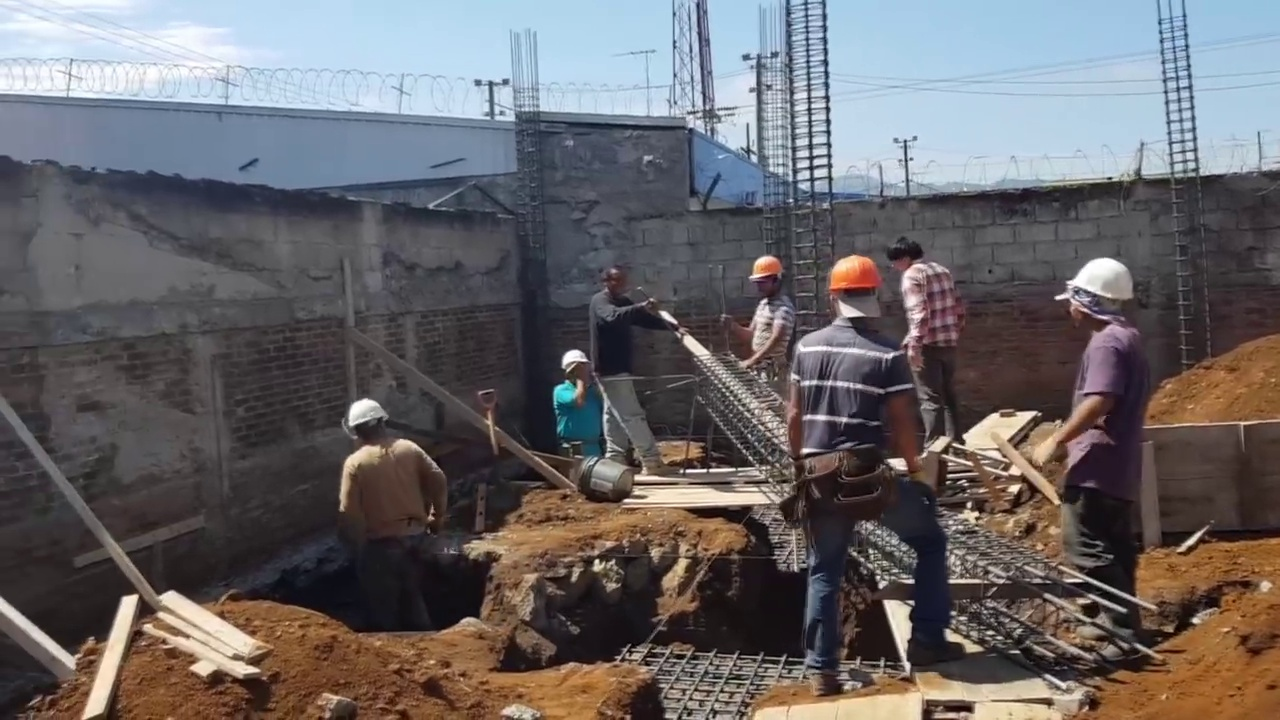helmet: (1054, 261, 1149, 312), (825, 257, 886, 298), (341, 403, 387, 442), (746, 257, 782, 286), (561, 349, 588, 372)
helmet-off: (891, 235, 927, 275), (599, 268, 627, 295)
helmet-on: (1061, 258, 1148, 340), (828, 257, 886, 326), (342, 398, 392, 453), (746, 257, 782, 302), (561, 349, 589, 387)
person: (790, 247, 947, 705), (1057, 243, 1159, 661), (336, 394, 445, 629), (893, 235, 972, 480), (588, 267, 680, 462), (725, 254, 792, 395), (551, 345, 616, 458)
